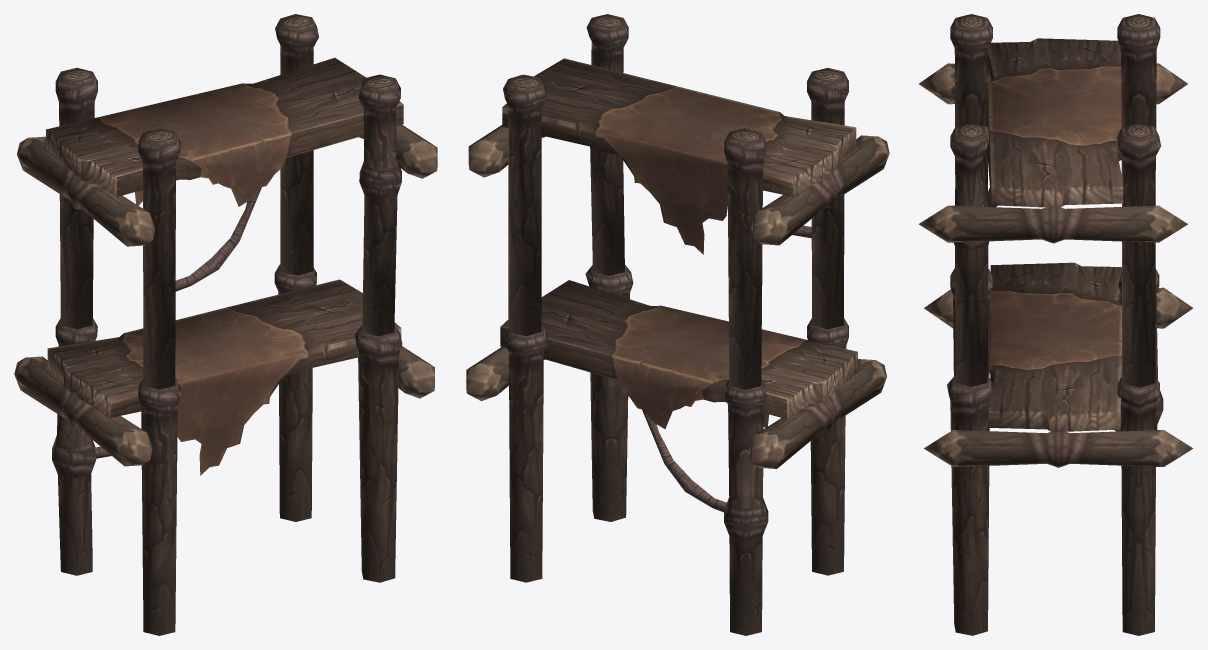
File: Anmaodao_mujiazi.FBX
The picture shows the model from 3 angles, left to right: view 1: azimuth 30°, elevation 25°; view 2: azimuth 150°, elevation 25°; view 3: azimuth 270°, elevation 25°; orthographic projection.
Parts seen in each view (by area): view 1: Anmaodao_mujiazi; view 2: Anmaodao_mujiazi; view 3: Anmaodao_mujiazi.
Boxes of the visible parts, <box> form: Anmaodao_mujiazi: <box>14,14,437,635</box>; Anmaodao_mujiazi: <box>466,14,889,635</box>; Anmaodao_mujiazi: <box>919,14,1192,635</box>.
Bounding box in the file's own units: 60.87 × 45.06 × 90.04.
